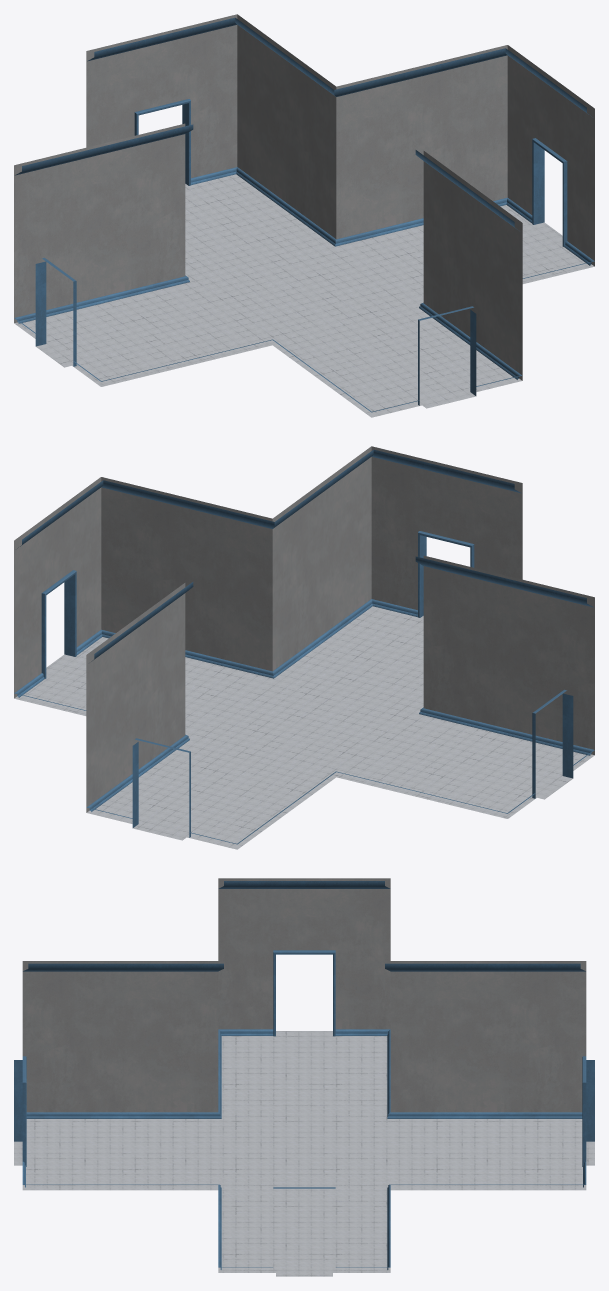
The model's file is PZ_room4.glb.
The picture shows the model from 3 angles, top to bottom: view 1: azimuth 30°, elevation 25°; view 2: azimuth 150°, elevation 25°; view 3: azimuth 270°, elevation 25°; orthographic projection.
Parts seen in each view (by area): view 1: PZ_HallwayX; view 2: PZ_HallwayX; view 3: PZ_HallwayX.
Part boxes in pixels (x1,y1,x2,y2): PZ_HallwayX: (14, 14, 594, 417); PZ_HallwayX: (14, 446, 594, 849); PZ_HallwayX: (14, 878, 594, 1276).
Size of the model in its own units: 20.48 by 6.08 by 20.48.
3 materials, 3 textured.
